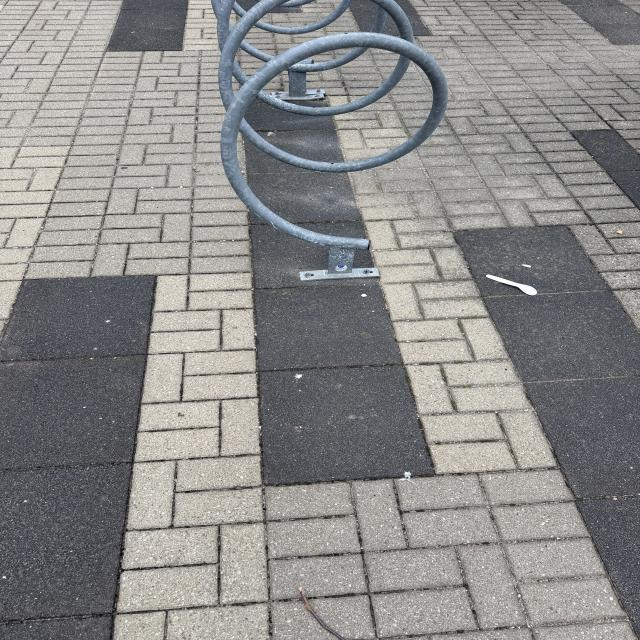Bicycle Rack: (206, 3, 458, 281)
